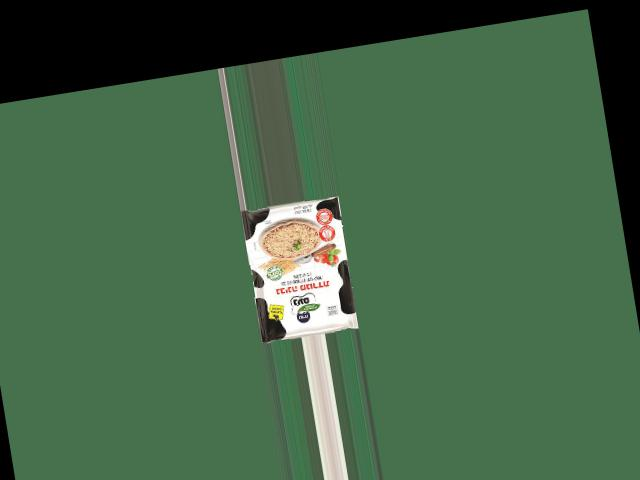cheese: (239, 199, 374, 334)
